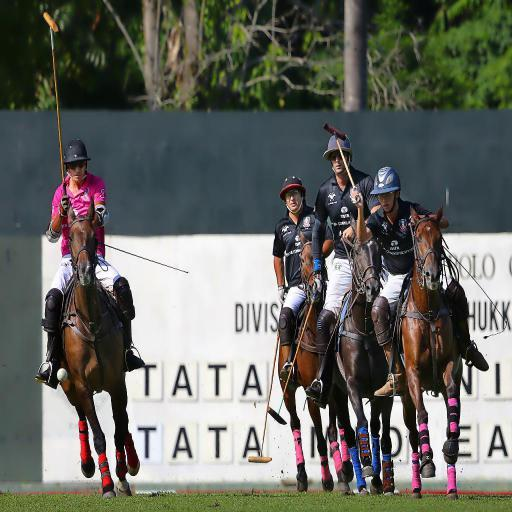Horse: (58, 200, 140, 500), (276, 227, 354, 494), (394, 203, 462, 499), (328, 229, 394, 497)
